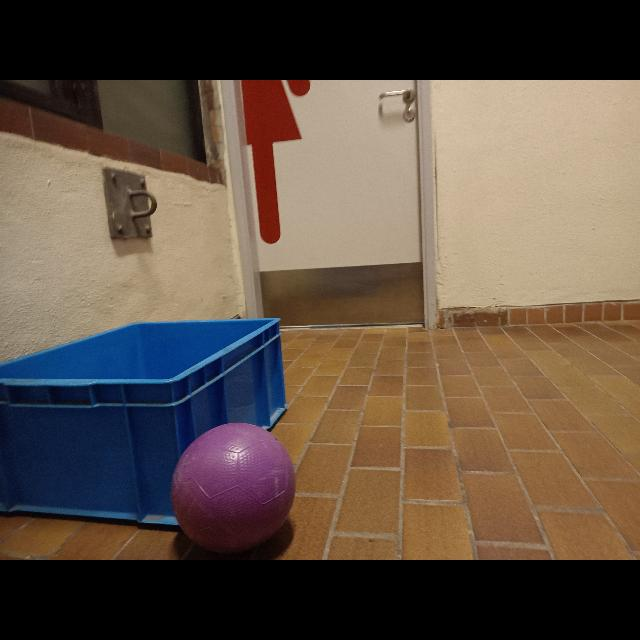P: (172, 421, 298, 553)
